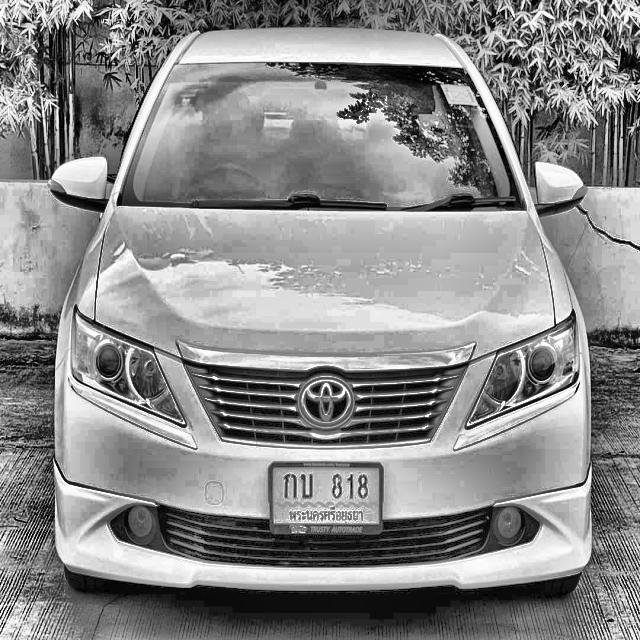license-plate: (266, 459, 384, 538)
